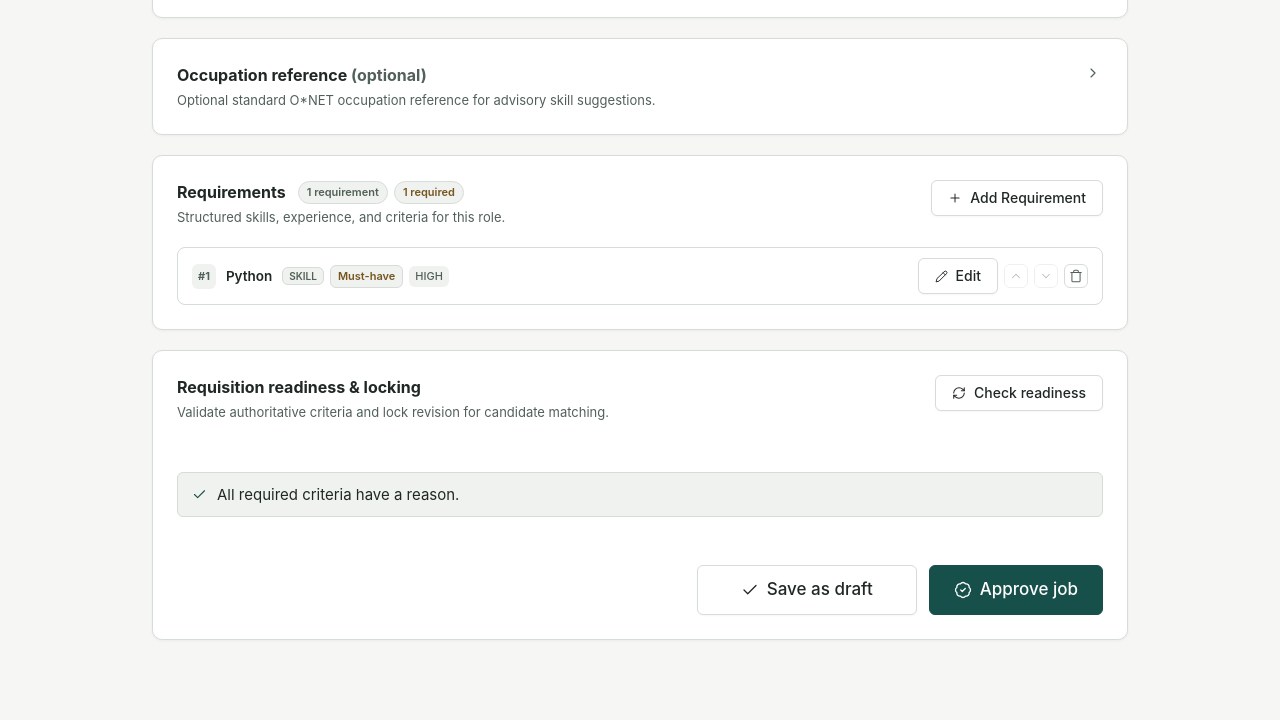
Phase 2B.3: Jobs Workspace & Requirement Builder › Phase 2B.5: Requisition Readiness & Revision Locking › checks readiness on draft and displays structured findings
(page scrolled)
# Click Check readiness
Click the button "Check readiness" at (1019, 393), box [935,375,1103,411]
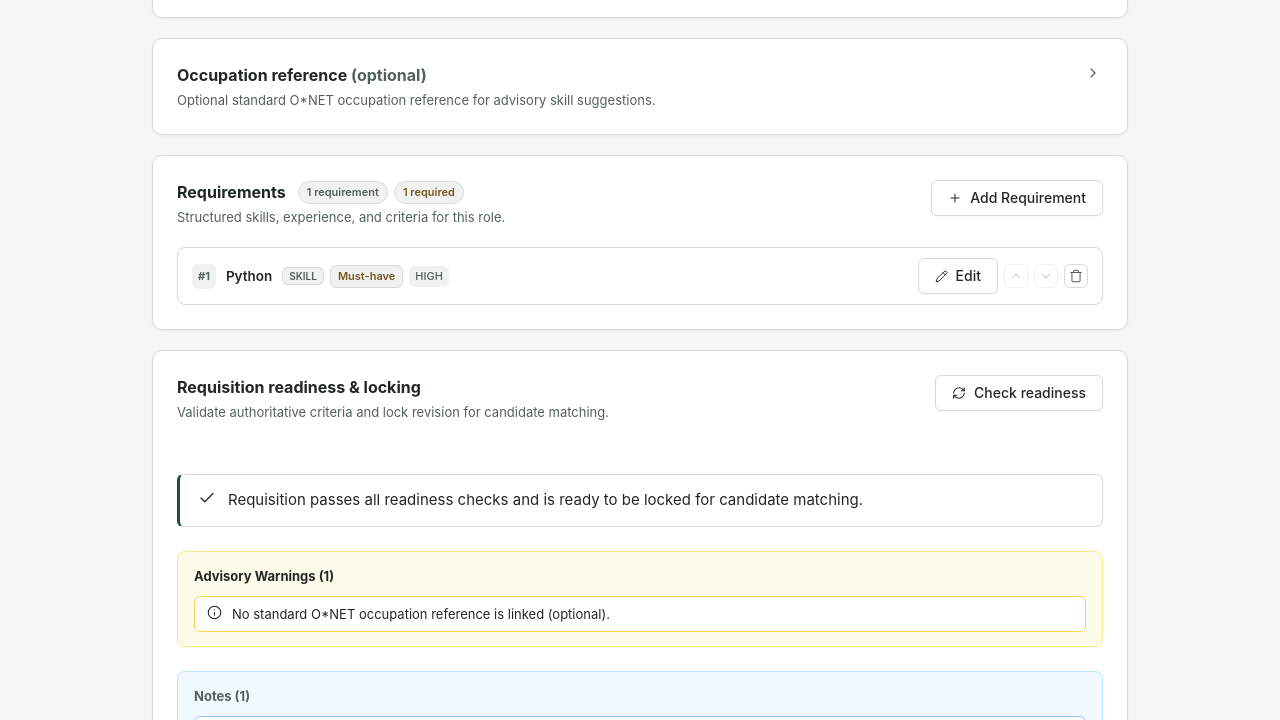
Expected: the text "Requisition passes all readiness checks" is shown, [228,490,863,509]
Expected: the heading "Advisory Warnings (1)" is shown, [194,568,334,584]
Expected: the text "No standard O*NET occupation reference is linked (optional)." is shown, [232,605,610,623]
